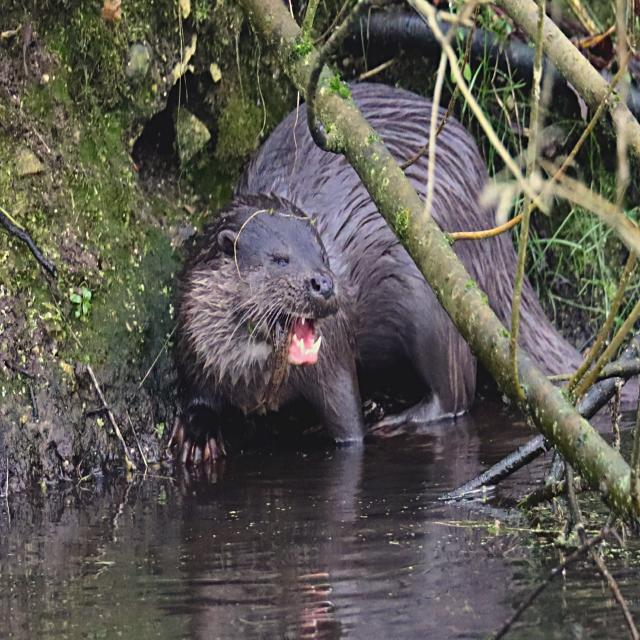otter: (180, 81, 515, 440)
